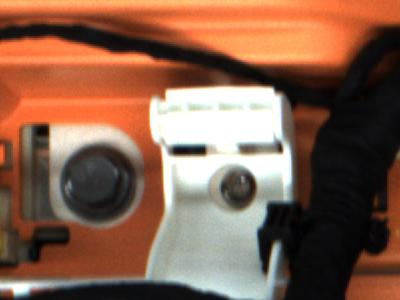nut_b: (56, 144, 139, 223)
